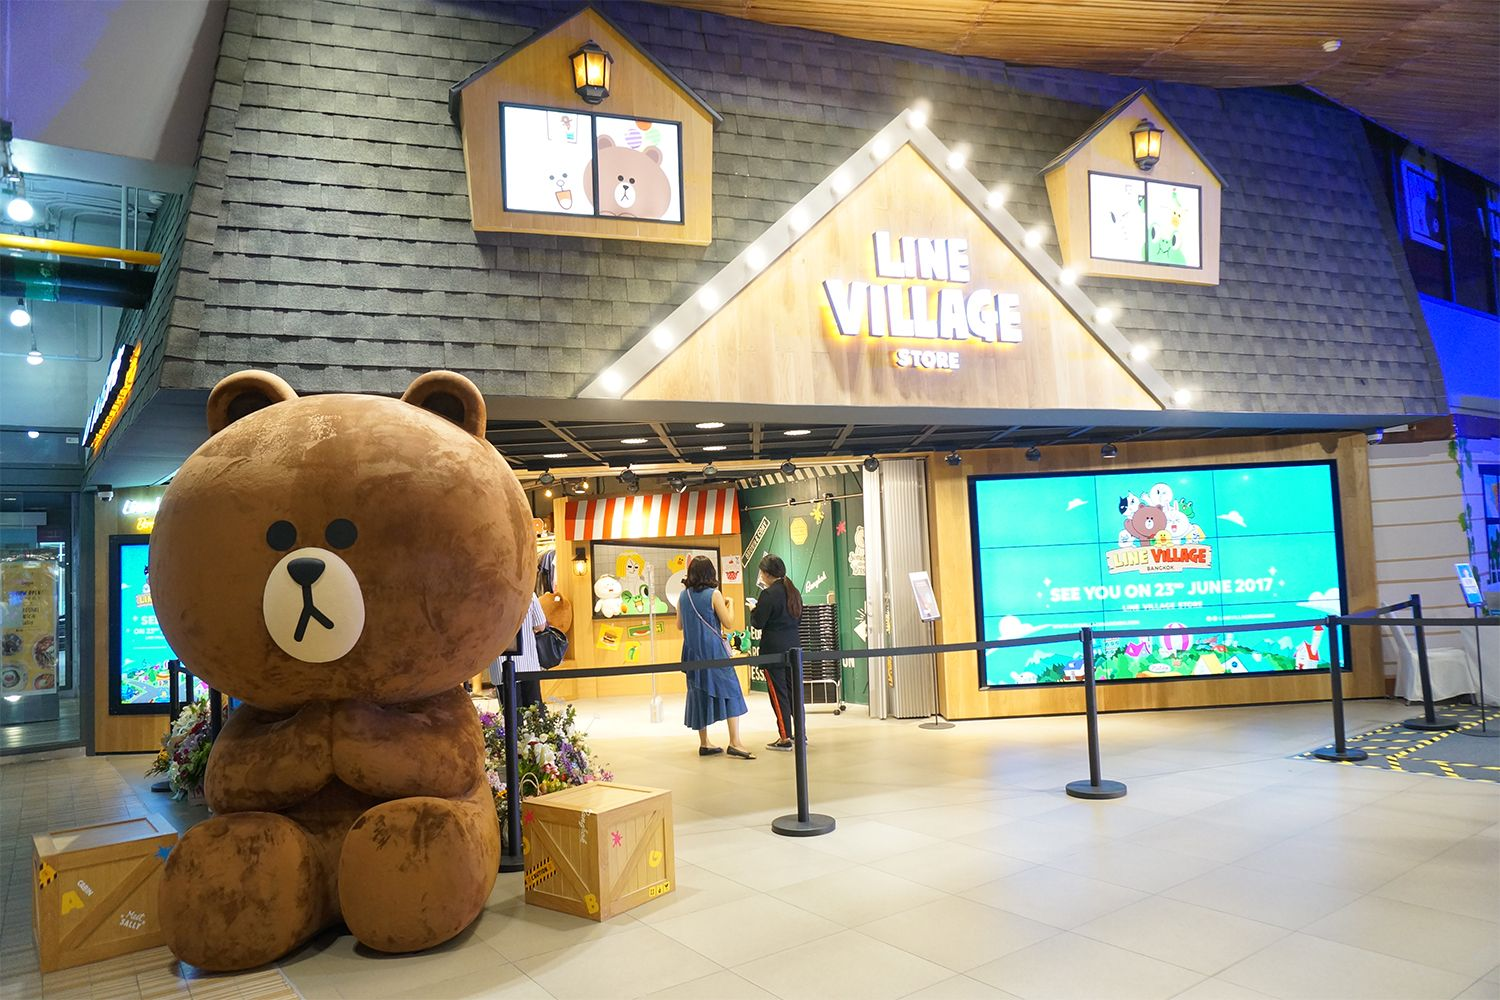line_brown: (145, 369, 576, 725)
